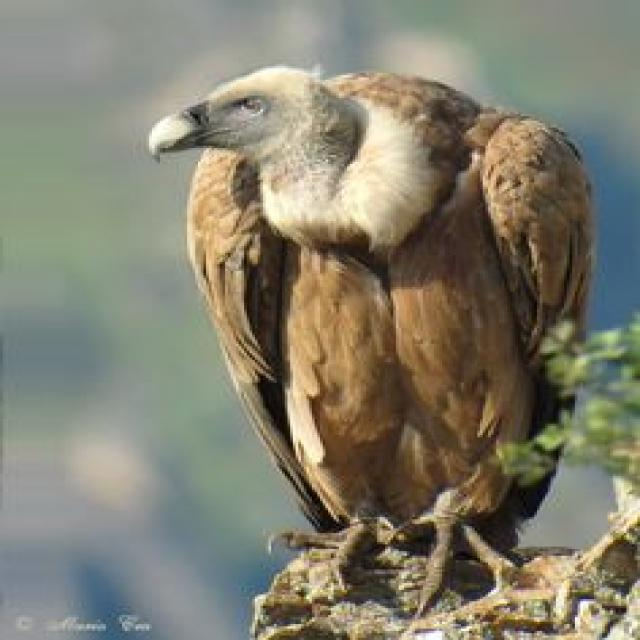Carnivorous: (144, 66, 599, 620)
